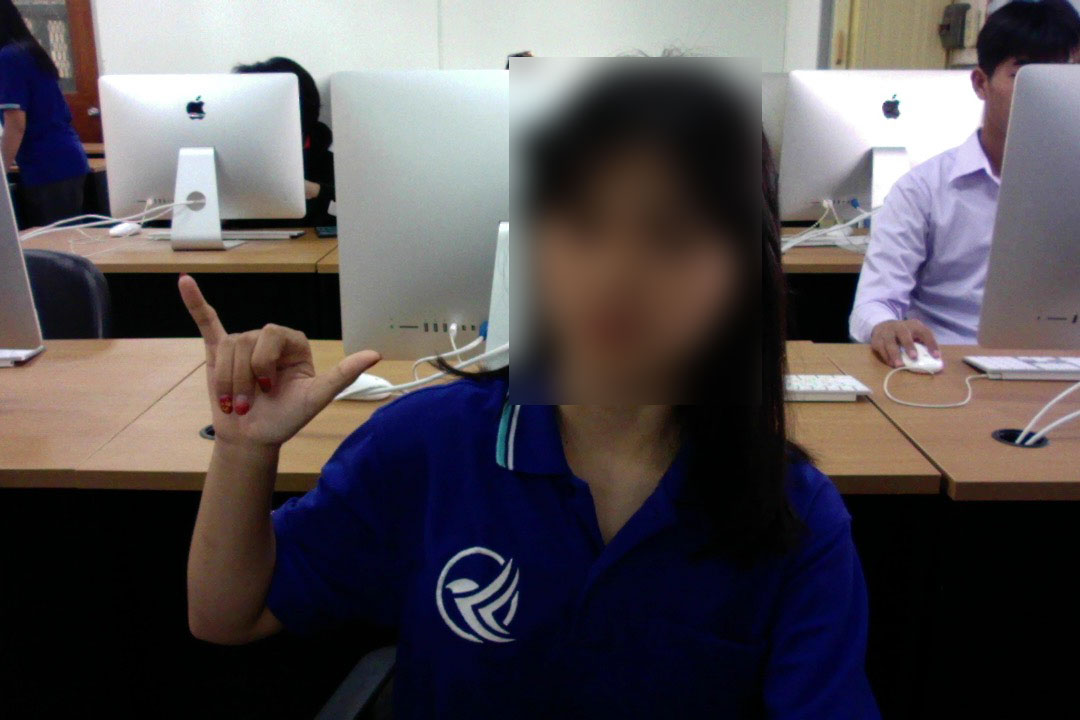yor: (167, 268, 396, 459)
